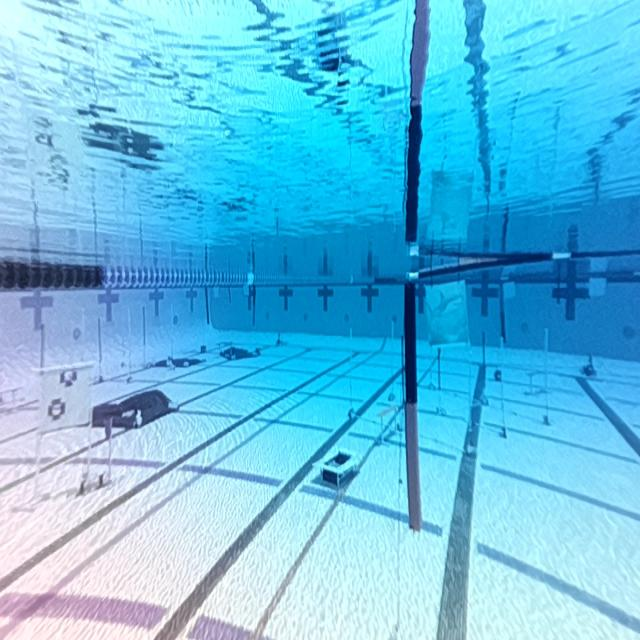round_nose: (425, 284, 467, 334)
